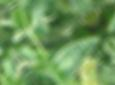Tomato mold leaf: (44, 26, 109, 84), (9, 0, 73, 40)
